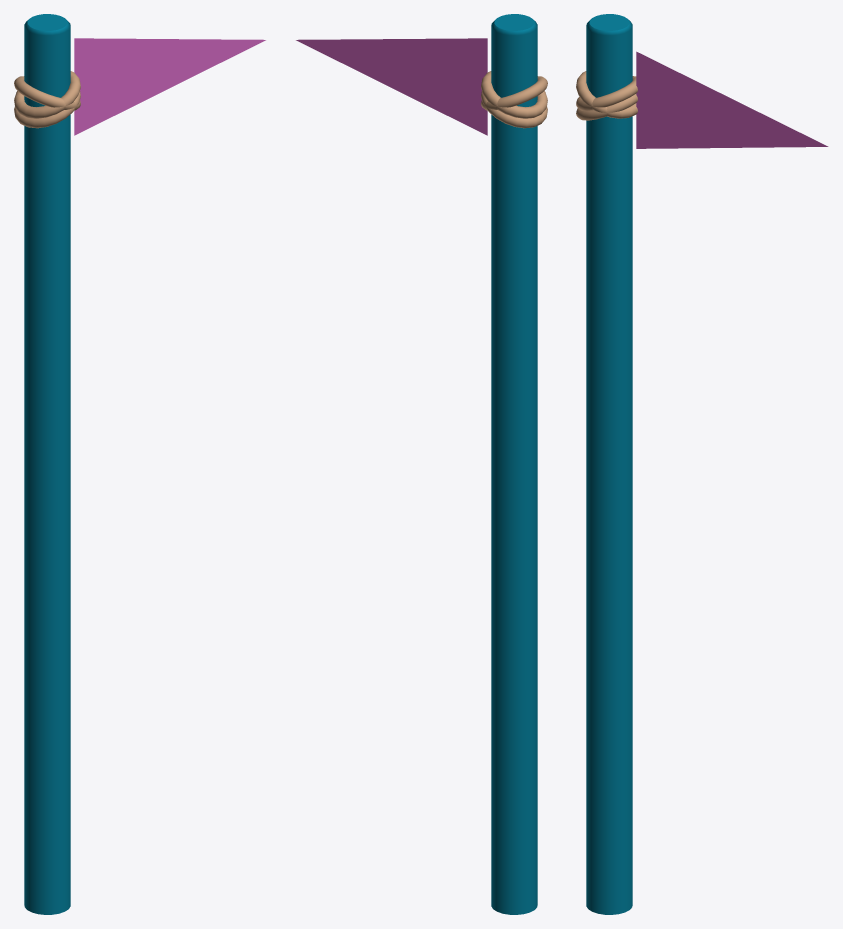
File: Pennant.fbx
3 views of the same model, side by side, from view 1: azimuth 30°, elevation 25°; view 2: azimuth 150°, elevation 25°; view 3: azimuth 330°, elevation 25° (orthographic).
Parts seen in each view (by area): view 1: Post_Pennant_msh, Pennant_msh, Rope_Pennant_msh; view 2: Post_Pennant_msh, Pennant_msh, Rope_Pennant_msh; view 3: Post_Pennant_msh, Pennant_msh, Rope_Pennant_msh.
Part boxes in pixels (x1,y1,x2,y2): Post_Pennant_msh: [24, 14, 70, 914]; Pennant_msh: [74, 38, 265, 135]; Rope_Pennant_msh: [14, 71, 80, 128]; Post_Pennant_msh: [491, 14, 537, 914]; Pennant_msh: [296, 38, 487, 135]; Rope_Pennant_msh: [481, 71, 547, 128]; Post_Pennant_msh: [586, 14, 632, 914]; Pennant_msh: [636, 51, 828, 148]; Rope_Pennant_msh: [576, 71, 637, 120].
Size of the model in its own units: 3.56 by 12.13 by 0.8785.
